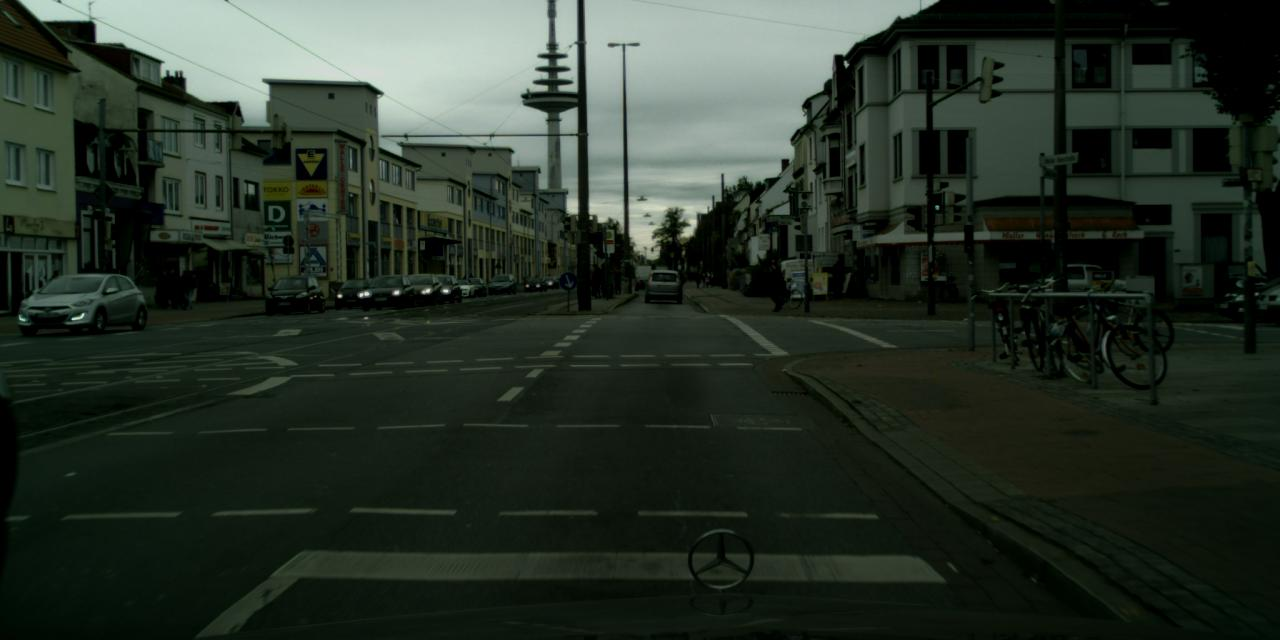ped: (156, 269, 194, 310), (765, 262, 784, 310), (830, 259, 846, 298), (591, 262, 606, 299), (682, 272, 716, 287), (767, 259, 779, 289), (612, 267, 622, 294)
